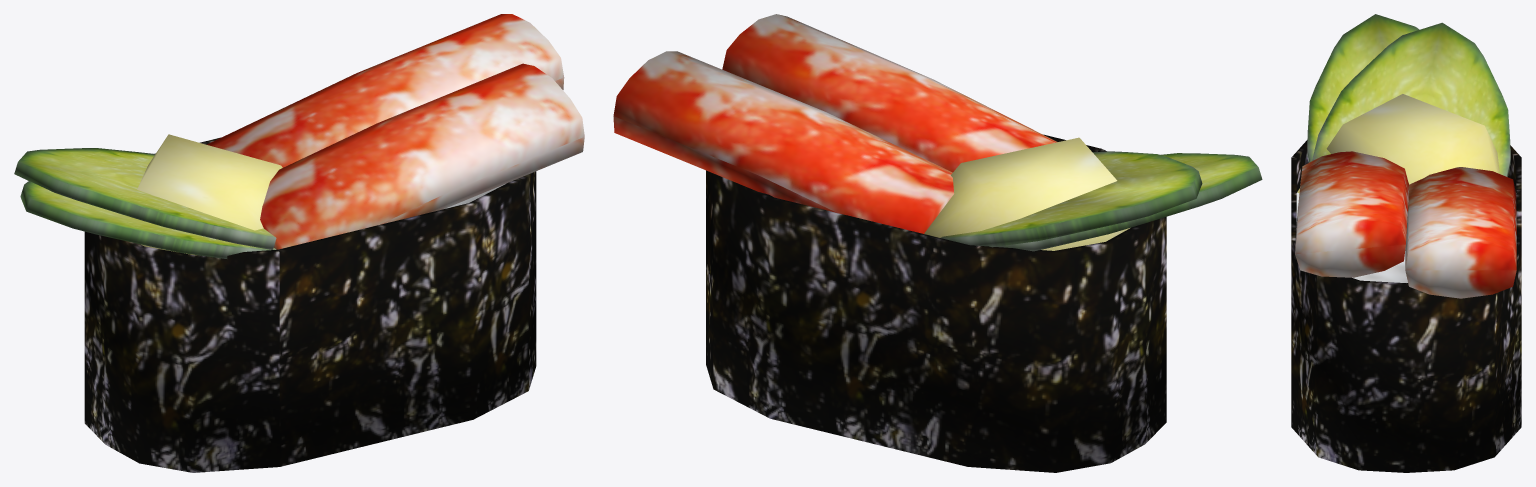
Rendered from crab_5.fbx.
The picture shows the model from 3 angles, left to right: view 1: azimuth 30°, elevation 25°; view 2: azimuth 150°, elevation 25°; view 3: azimuth 270°, elevation 25°; orthographic projection. The views are drawn at different scales.
Parts seen in each view (by area): view 1: crab_5; view 2: crab_5; view 3: crab_5.
Boxes of the visible parts, box(x1,y1,x2,y2) form: crab_5: box(14, 14, 584, 472); crab_5: box(613, 14, 1262, 472); crab_5: box(1291, 14, 1521, 472).
Bounding box in the file's own units: 7.64 × 3.81 × 3.14.
